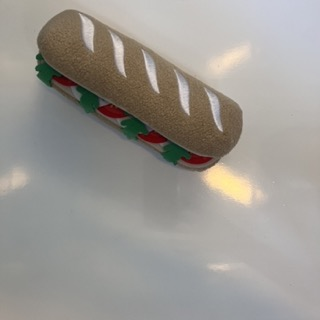sandwich: (33, 8, 244, 172)
